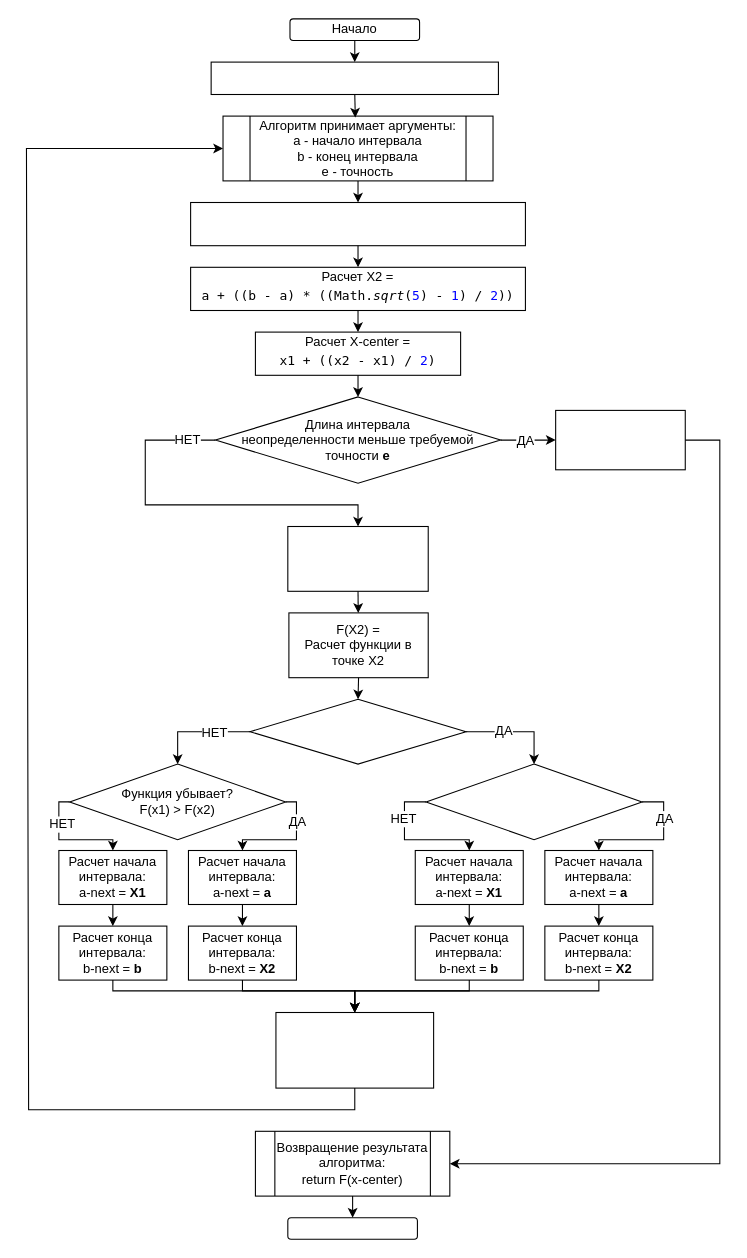
This 747x1258 diagram has some shape labels left out. Here are the shapes that lost their labels. From the top down, the centre of each, then its label:
At (354,77): "Передача начальных аргументов алгоритму".
At (357,223): "Расчет X1 = b - ((b - a) * ((Math. sqrt ( 5 ) - 1 ) / 2 ))".
At (620,439): "F(X-center) = Расчет функции в точке X-center".
At (357,558): "F(X1) = Расчет функции в точке X1".
At (357,731): "Ищем минимум функции?".
At (533,801): "Функция возрастает? F(x1) <= F(x2)".
At (354,1049): "Передача значений нового интервала [a-next, b-next] в следующую итерацию".
At (352,1228): "Конец".
